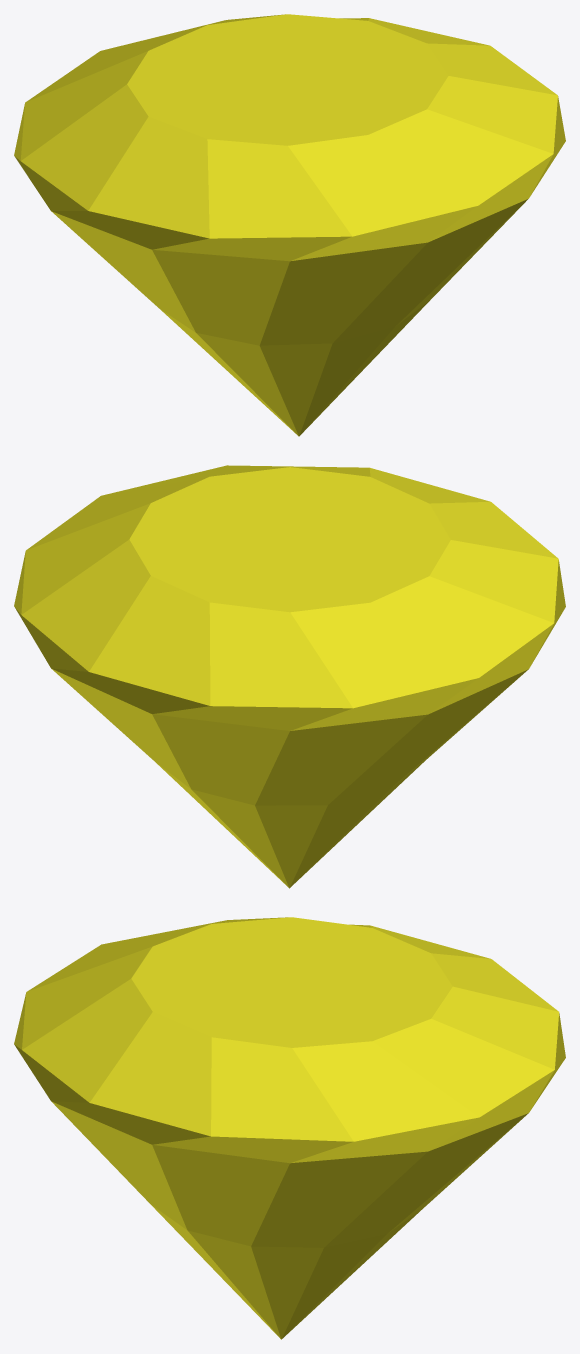
The model's file is Brilliant_Yellow.fbx.
3 views of the same model, one above another, from view 1: azimuth 30°, elevation 25°; view 2: azimuth 150°, elevation 25°; view 3: azimuth 270°, elevation 25° (orthographic).
Visible parts, largest first — view 1: BrilliantCut; view 2: BrilliantCut; view 3: BrilliantCut.
Boxes of the visible parts, x1,y1,x2,y2 form: BrilliantCut: [14, 14, 565, 436]; BrilliantCut: [14, 465, 565, 888]; BrilliantCut: [14, 917, 565, 1339].
Bounding box in the file's own units: 79.44 × 57 × 79.42.
